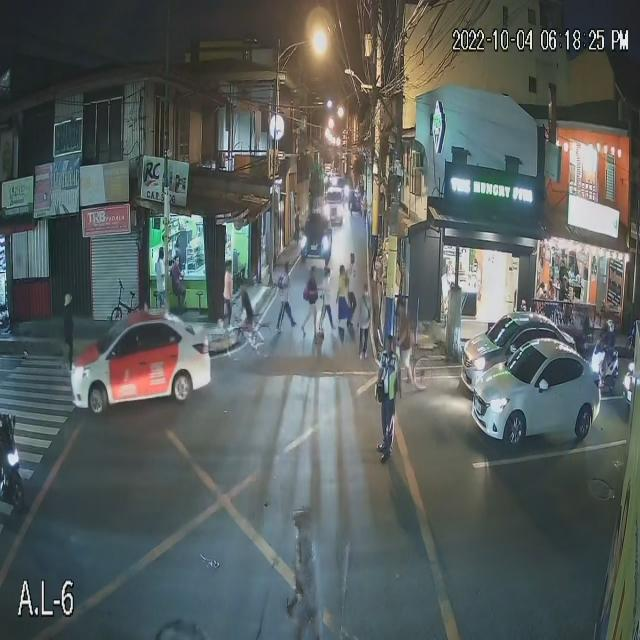helmet: (607, 320, 613, 330)
motorcycle: (0, 423, 31, 511), (591, 357, 613, 398)
rider: (605, 334, 614, 369)
